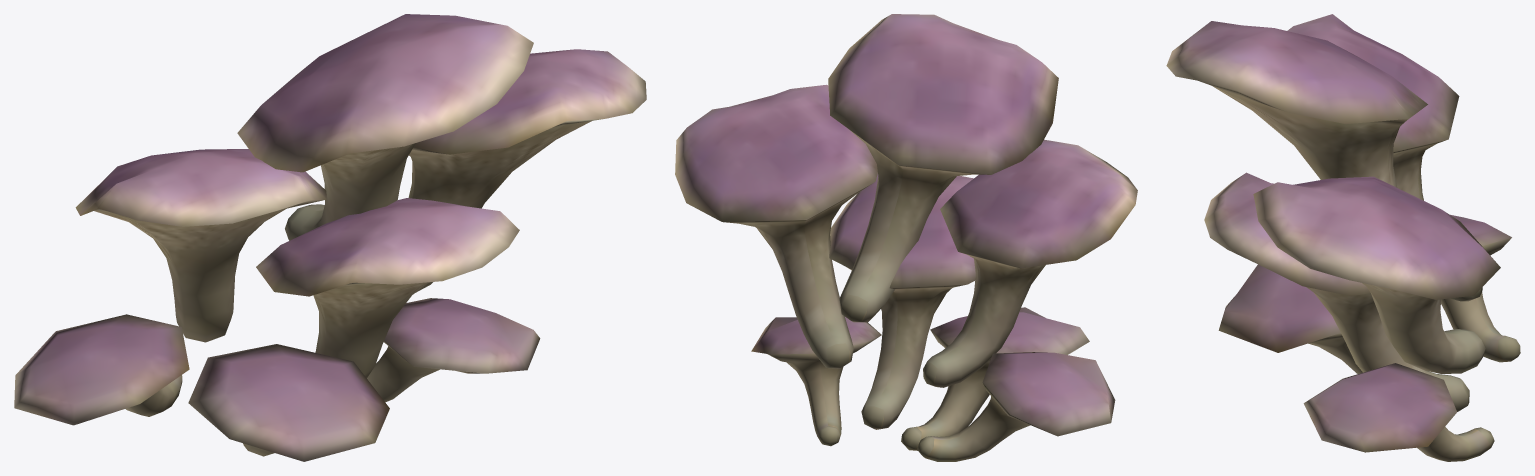
File: mushroom-3.glb
3 views of the same model, side by side, from view 1: azimuth 30°, elevation 25°; view 2: azimuth 150°, elevation 25°; view 3: azimuth 270°, elevation 25° (orthographic). The views are drawn at different scales.
Visible parts, largest first — view 1: Mushroom_Oyster; view 2: Mushroom_Oyster; view 3: Mushroom_Oyster.
Boxes of the visible parts, x1,y1,x2,y2 form: Mushroom_Oyster: (14, 14, 646, 461); Mushroom_Oyster: (675, 14, 1137, 461); Mushroom_Oyster: (1166, 14, 1520, 461).
Bounding box in the file's own units: 0.269 × 0.2 × 0.157.
1 material, 1 textured.
